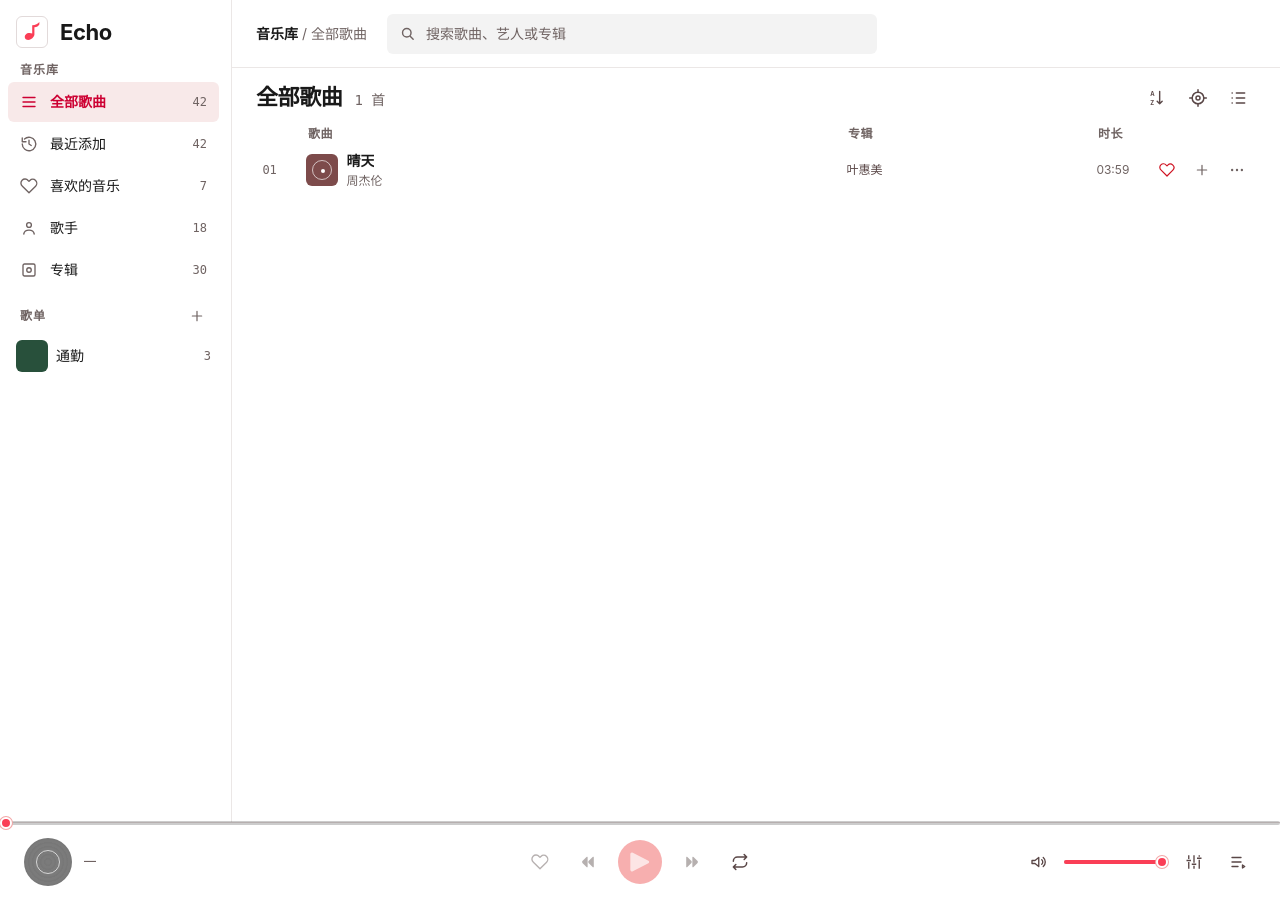
音乐库导航计数 › does not refresh playlist counts when deleting a library song fails
Expected: the text "晴天" is shown, left=346, top=150, right=374, bottom=172
Click the button named "歌曲操作".
click(1237, 170)  # box left=1223, top=156, right=1250, bottom=184
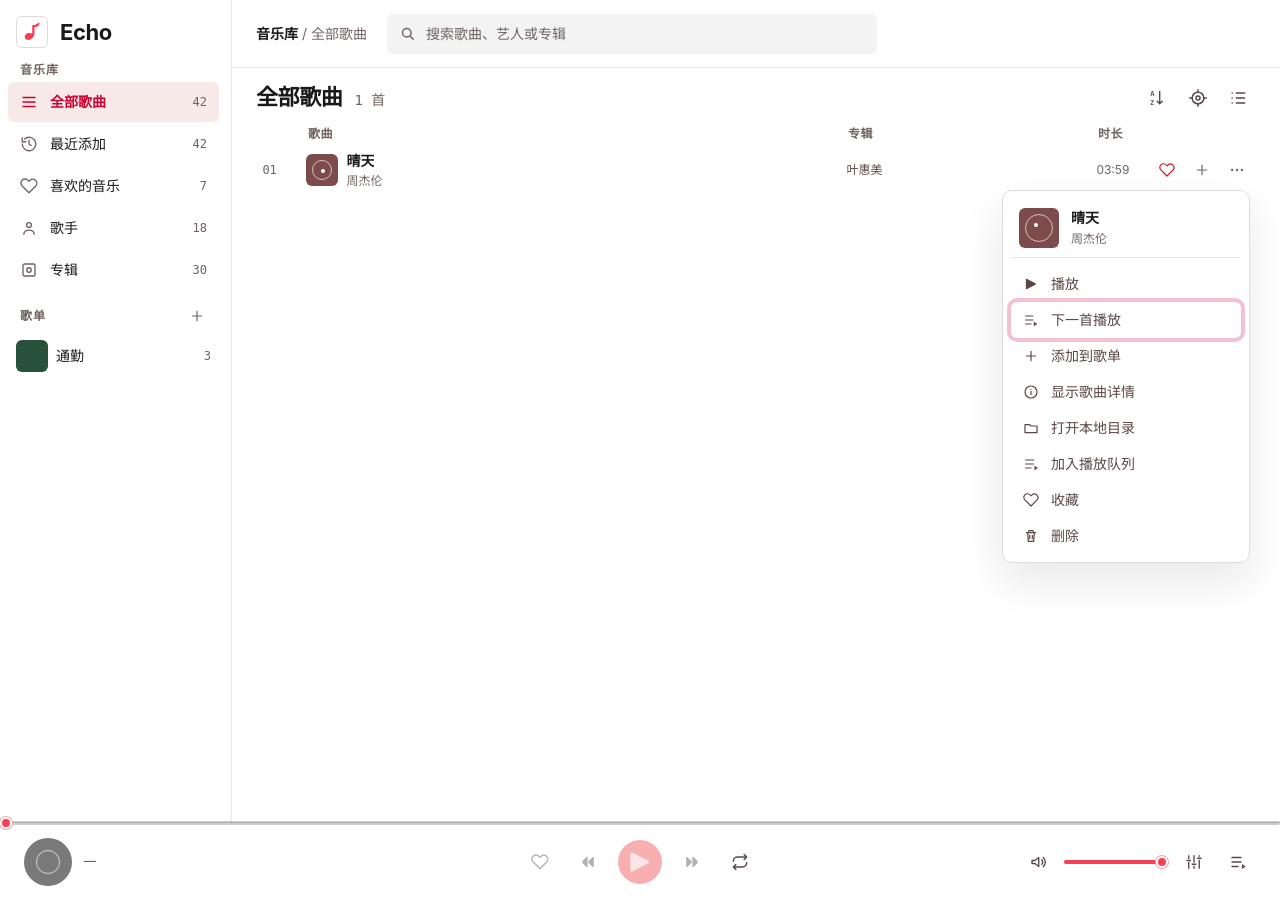
Click the menu item "删除".
click(1126, 536)  # box left=1011, top=518, right=1241, bottom=554
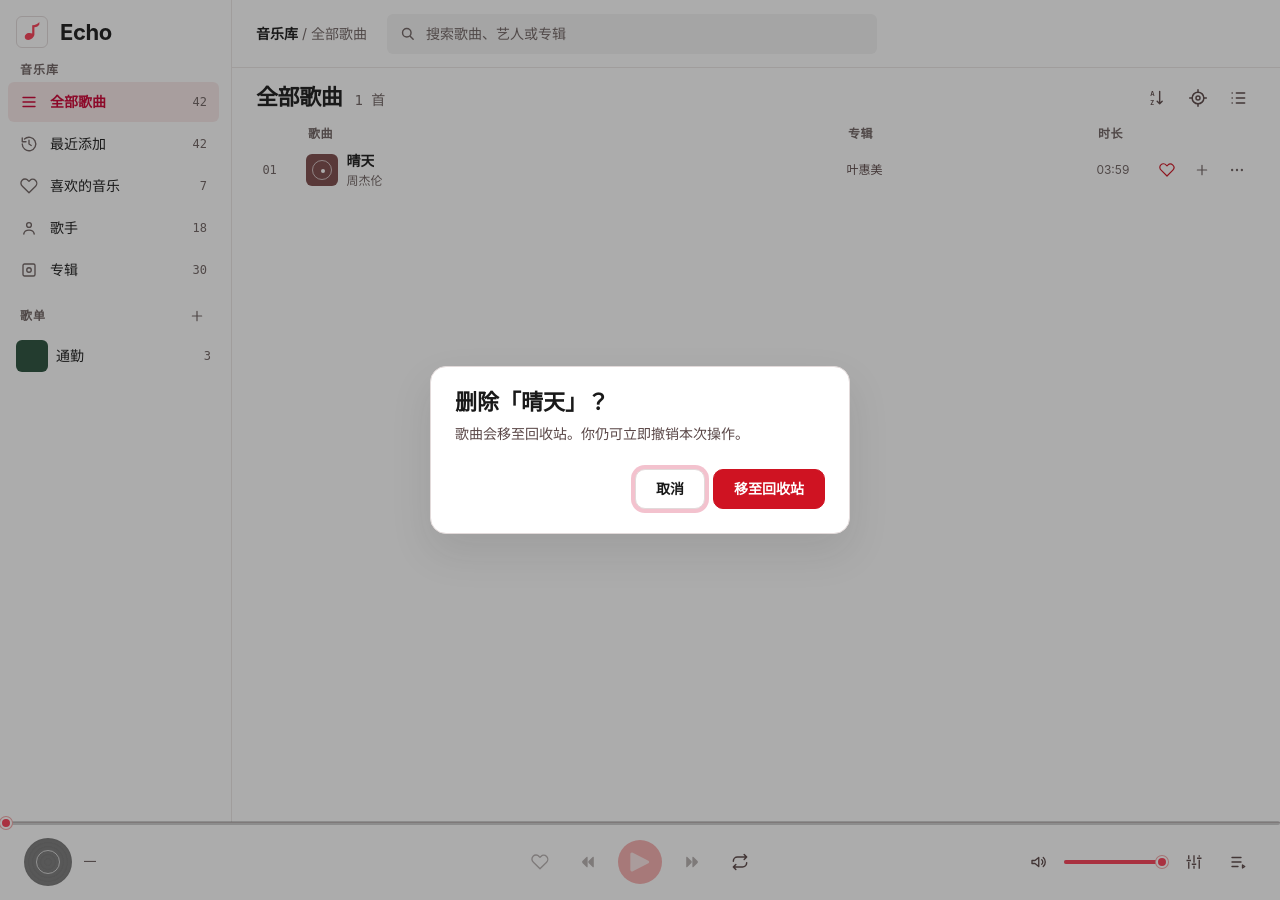
Click the button "移至回收站".
click(769, 488)  # box left=713, top=468, right=825, bottom=508
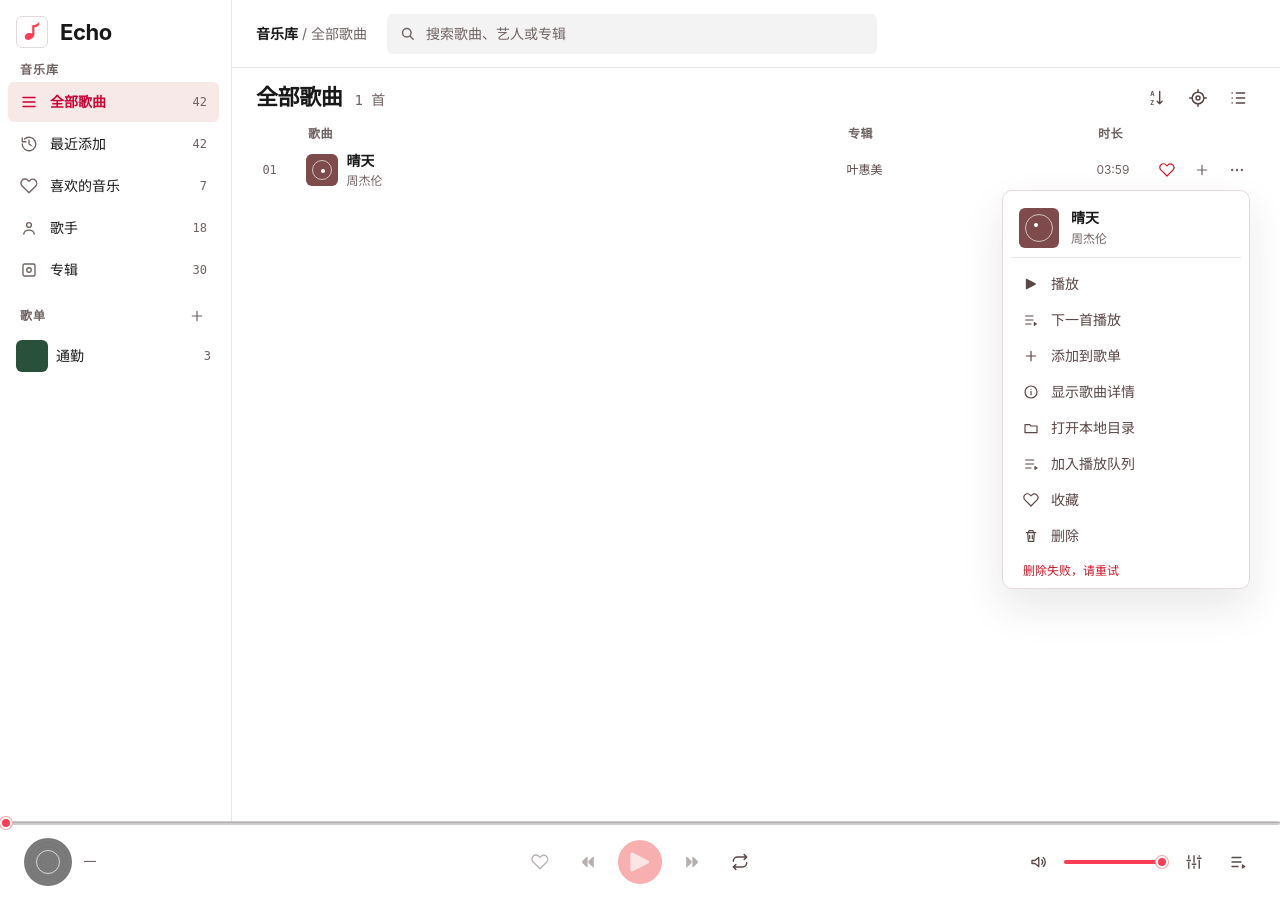
Expected: the text "删除失败，请重试" is shown, left=1023, top=562, right=1119, bottom=578
